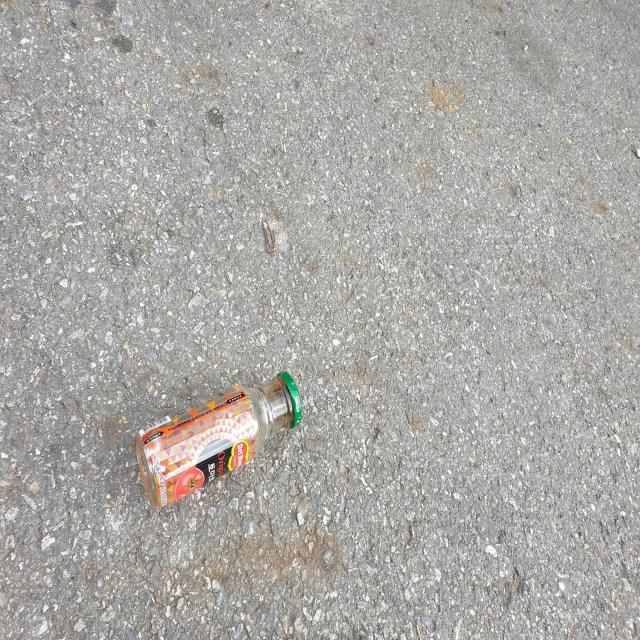glass: (135, 374, 302, 508)
